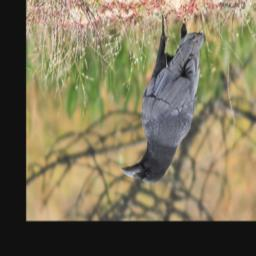Crow: (122, 11, 206, 184)
